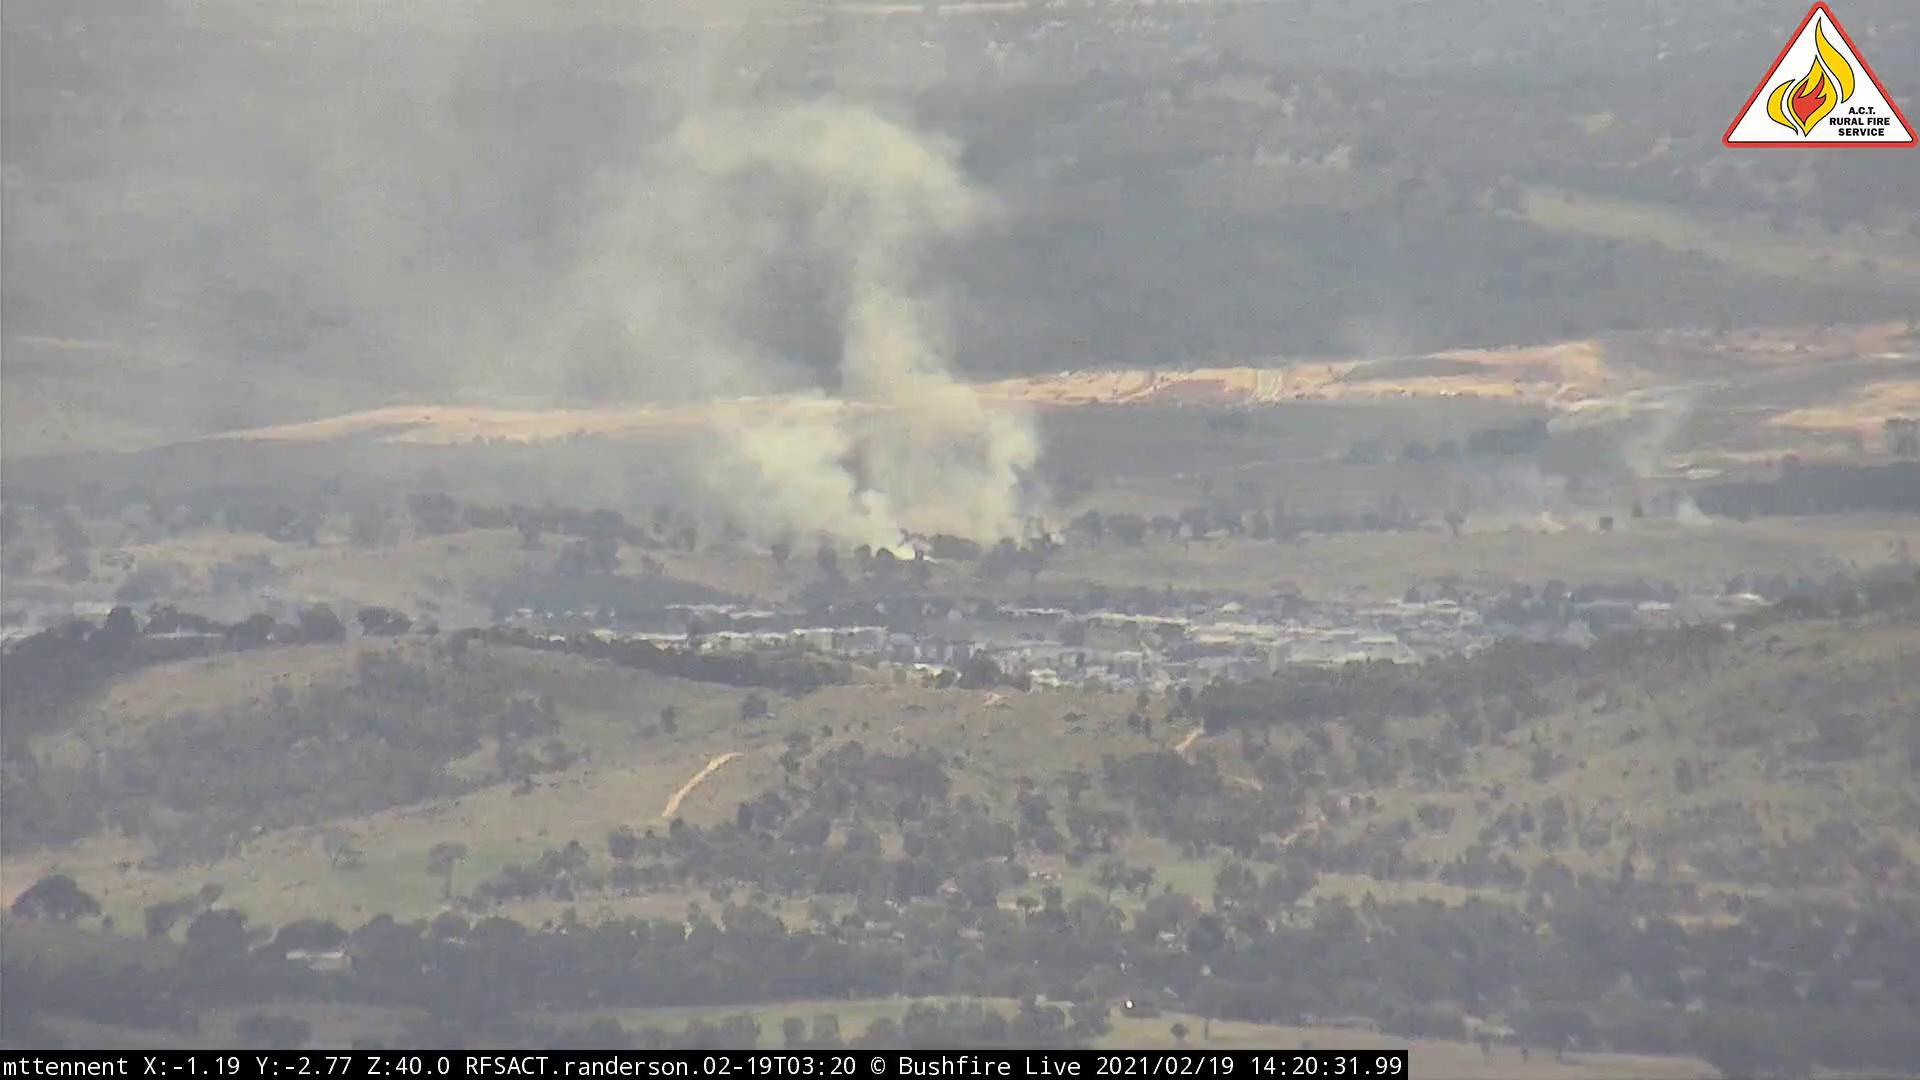Smoke: (219, 3, 1114, 579), (1352, 307, 1730, 553)
